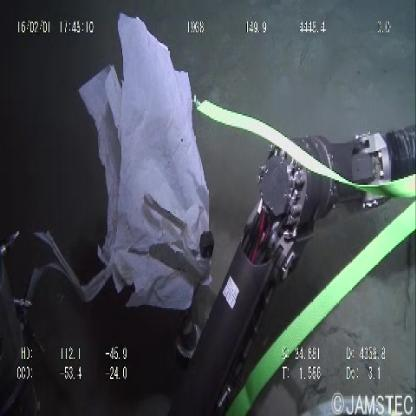Rov: (185, 111, 416, 410)
Rác: (72, 6, 217, 328)
